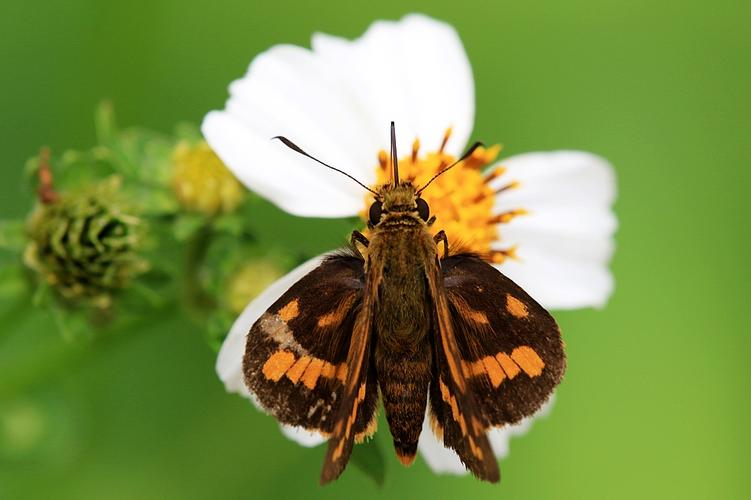Hesperiidae: (216, 122, 565, 487)
